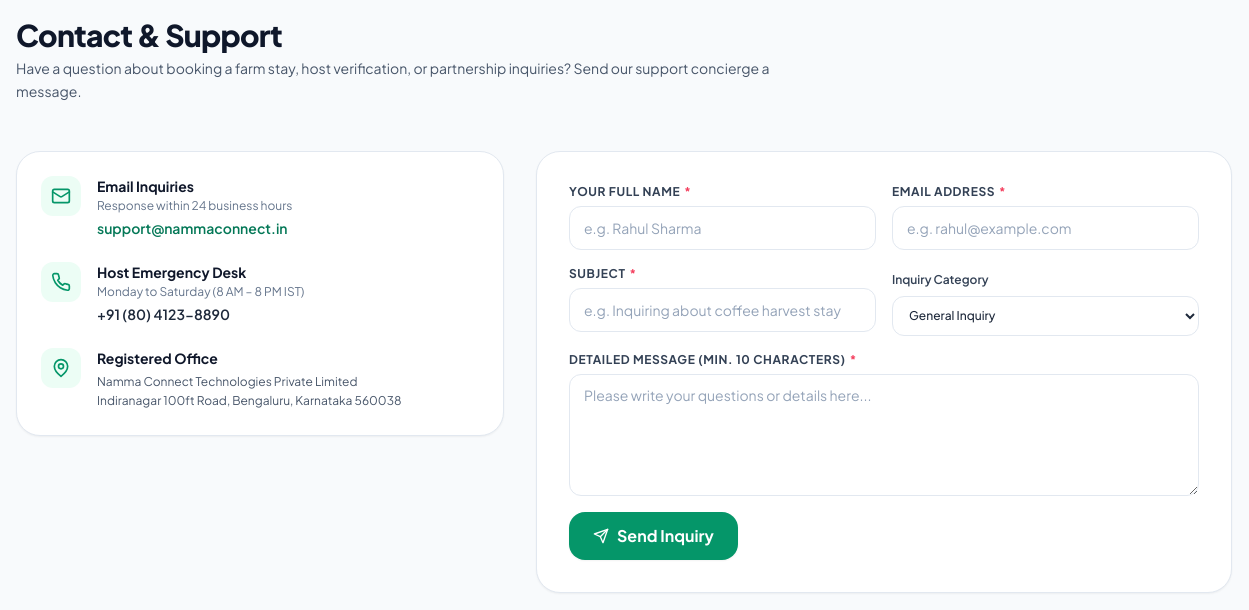
it: Public Website Landing & Content Pages Suite › renders Contact Page (/contact) and submits inquiry to backend API
Expected: the heading "Contact & Support" is shown, x1=16 y1=16 x2=282 y2=54
Type "Aravind Swamy" into the field labelled "Your Full Name*" at (722, 228), box x1=569 y1=206 x2=876 y2=250
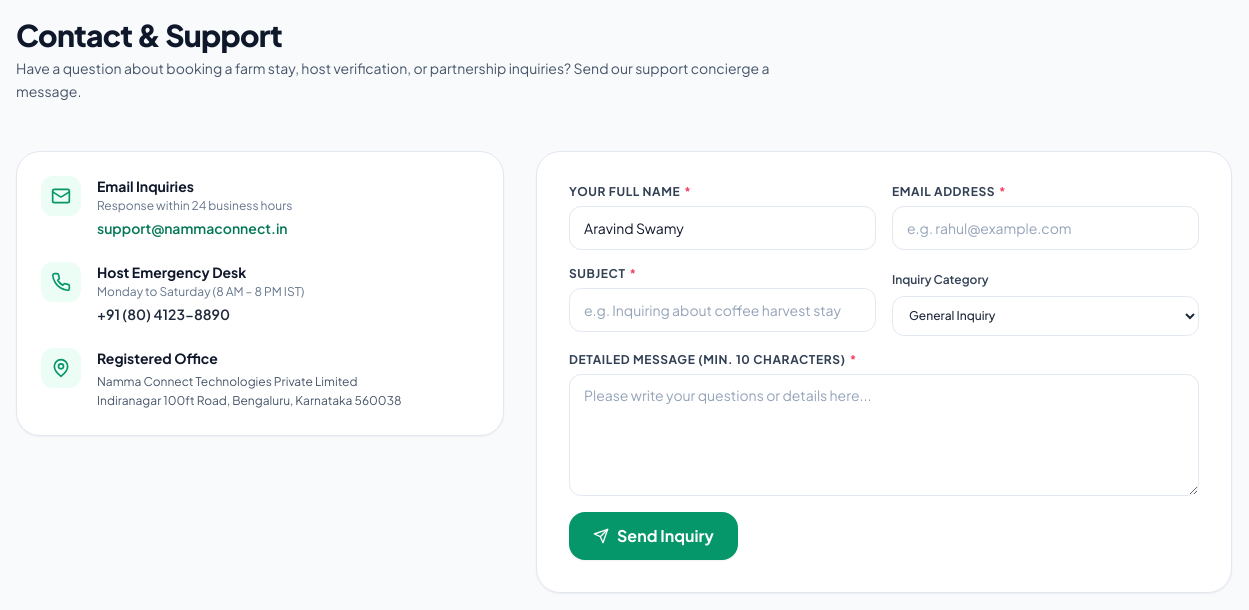
Type "aravind@example.com" into the field labelled "Email Address*" at (1046, 228), box x1=892 y1=206 x2=1199 y2=250
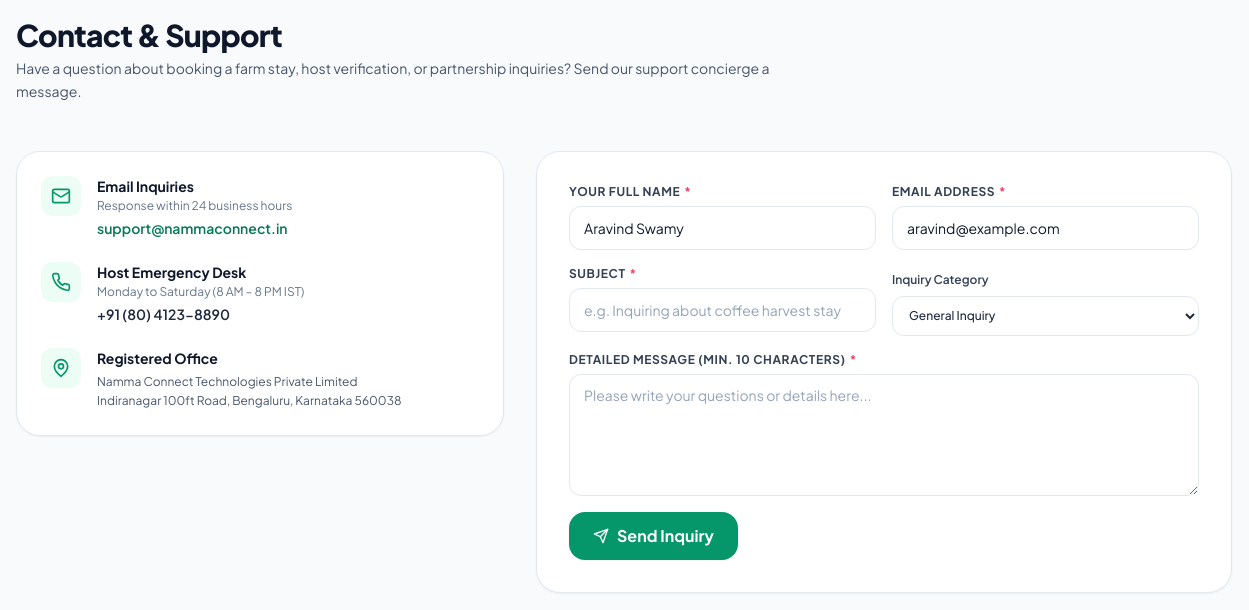
Type "Harvest Tour Group Booking" into the field labelled "Subject*" at (722, 310), box x1=569 y1=288 x2=876 y2=332
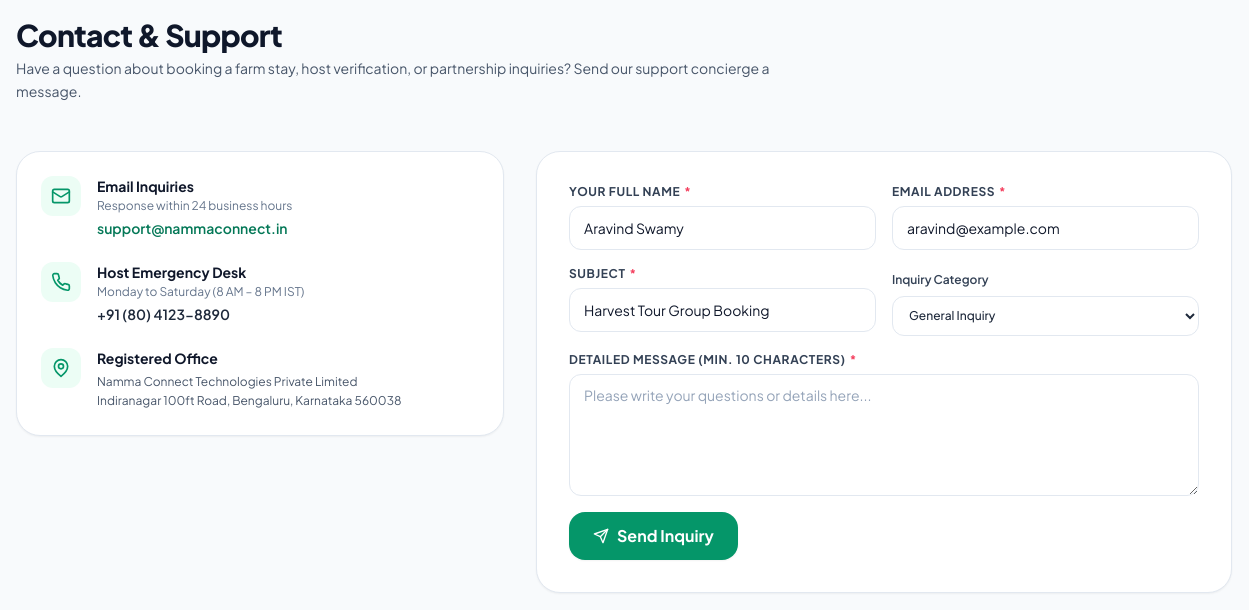
Type "We have a group of 8 guests looking to visit in October." into the text box labelled "Detailed Message (Min. 10 characters)*" at (884, 434), box x1=569 y1=374 x2=1199 y2=496
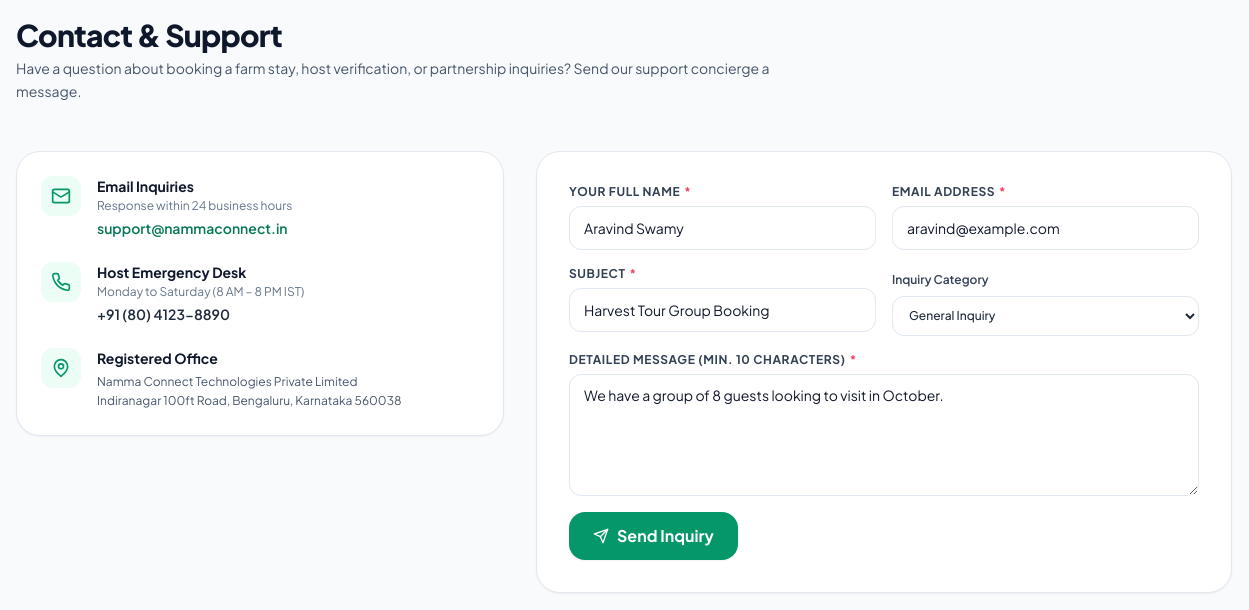
Click the button "Send Inquiry" at (653, 536), box x1=569 y1=512 x2=738 y2=560
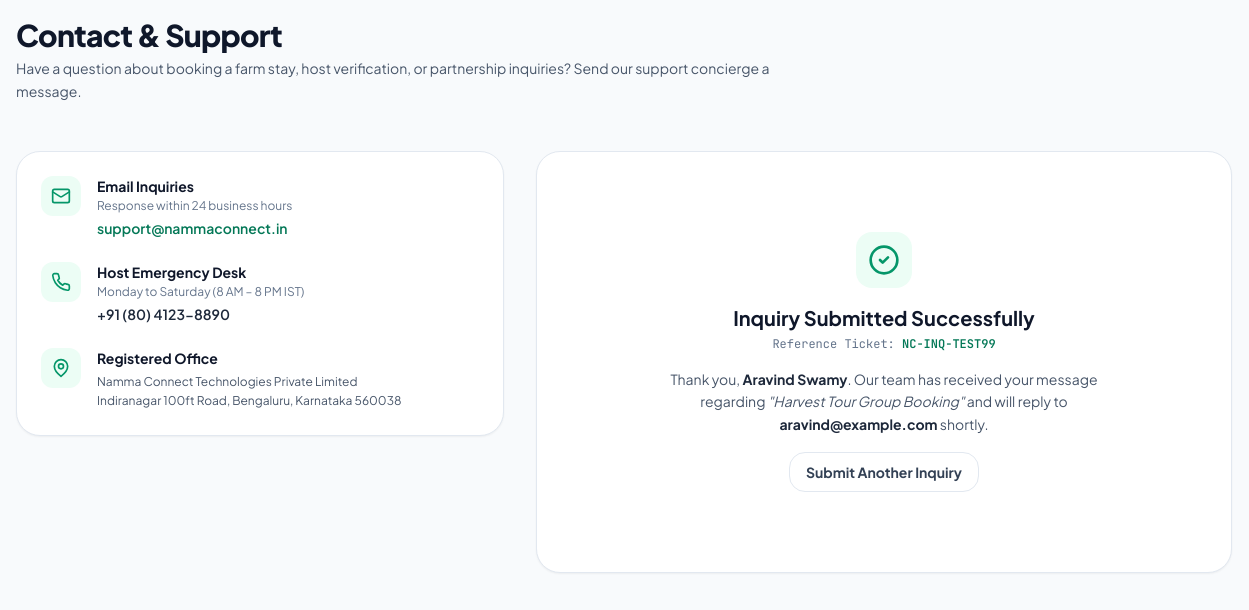
Expected: the heading "Inquiry Submitted Successfully" is shown, x1=733 y1=304 x2=1035 y2=330
Expected: the text "NC-INQ-TEST99" is shown, x1=902 y1=336 x2=996 y2=352
